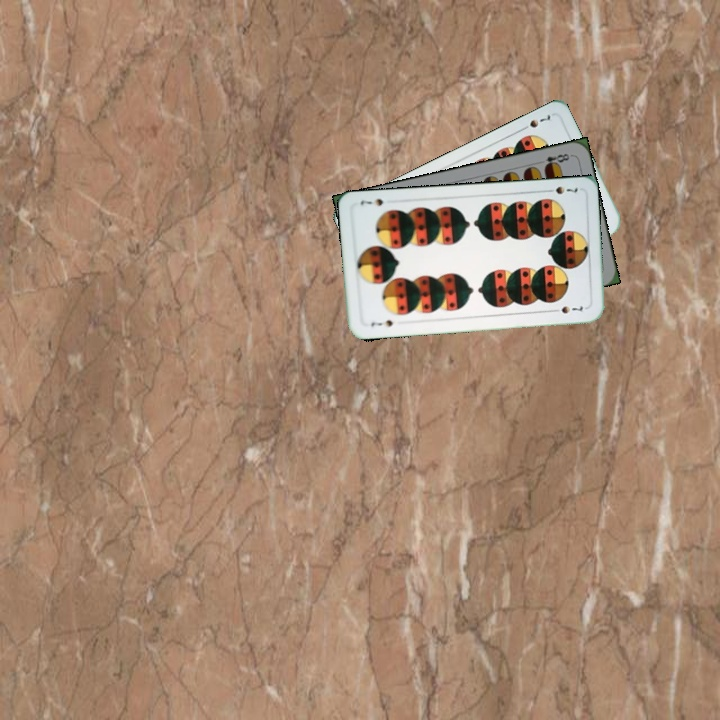E8: (540, 149, 574, 171)
S7: (516, 111, 553, 134), (541, 182, 580, 197), (367, 316, 395, 329)
